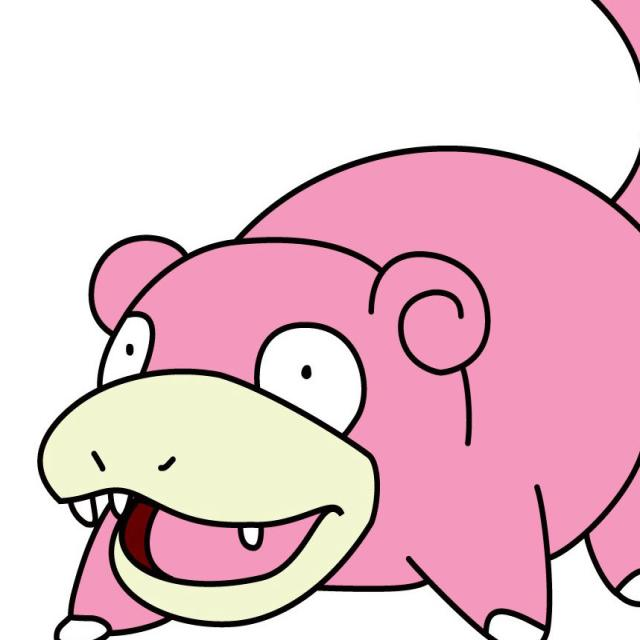Slowpoke: (64, 169, 640, 640)
